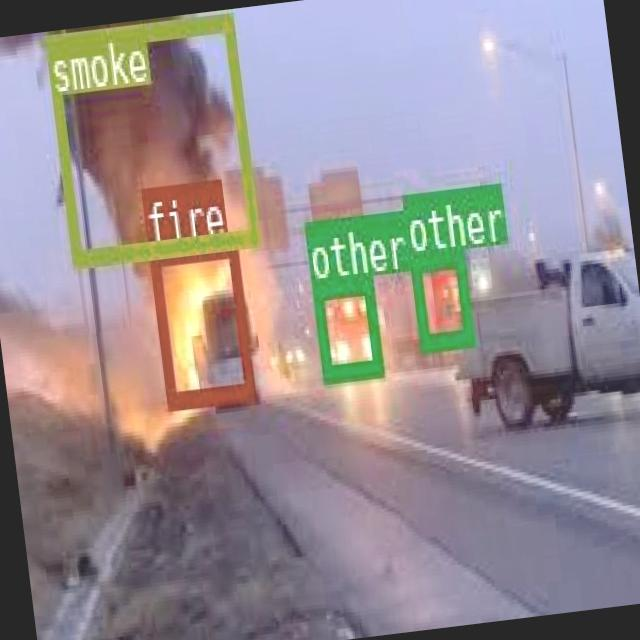fire: (147, 238, 253, 408)
smoke: (44, 12, 258, 262)
